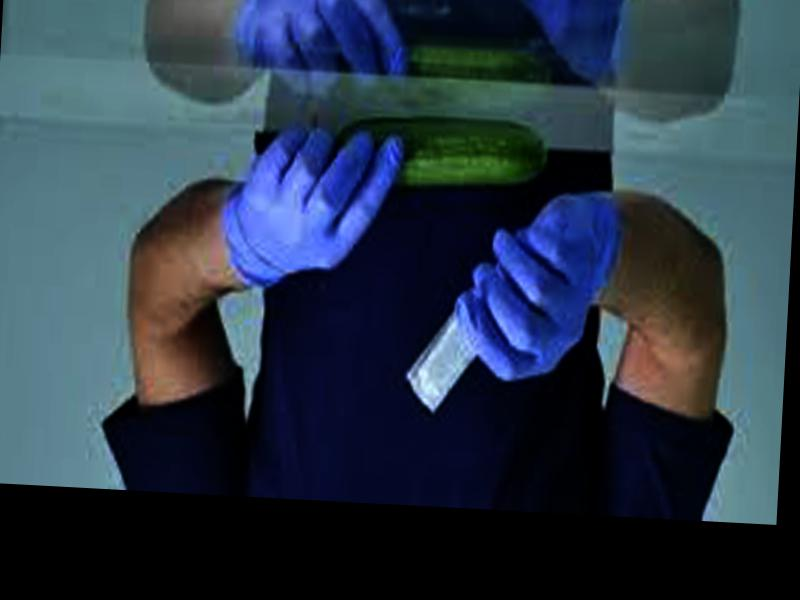Cucumber: (335, 111, 550, 193)
